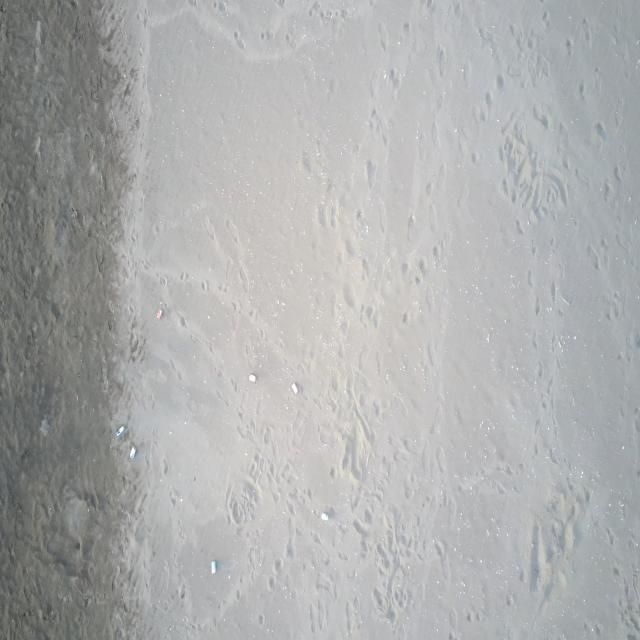Garbage: (39, 415, 49, 435), (116, 424, 127, 436), (247, 373, 256, 383), (128, 448, 136, 459), (156, 307, 163, 319), (289, 383, 297, 393), (211, 560, 216, 573), (320, 512, 327, 520)
